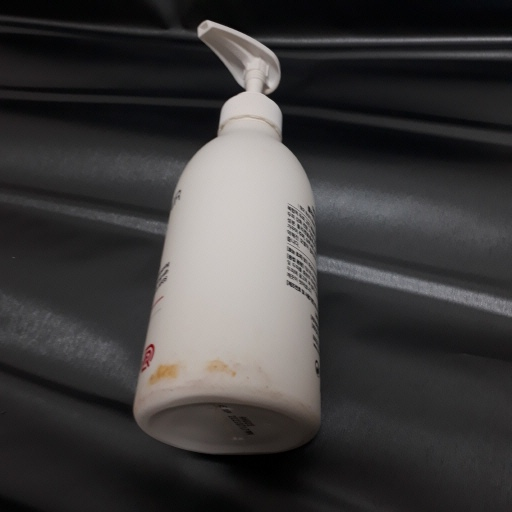Plastic_3: (129, 18, 323, 461)
